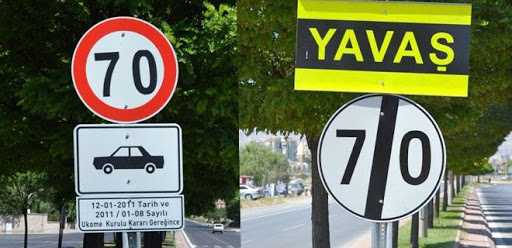70 Km Hiz Siniri: (72, 17, 177, 120)
